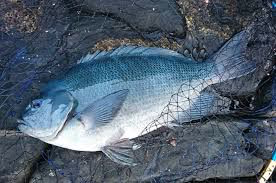gure: (10, 24, 261, 157)
